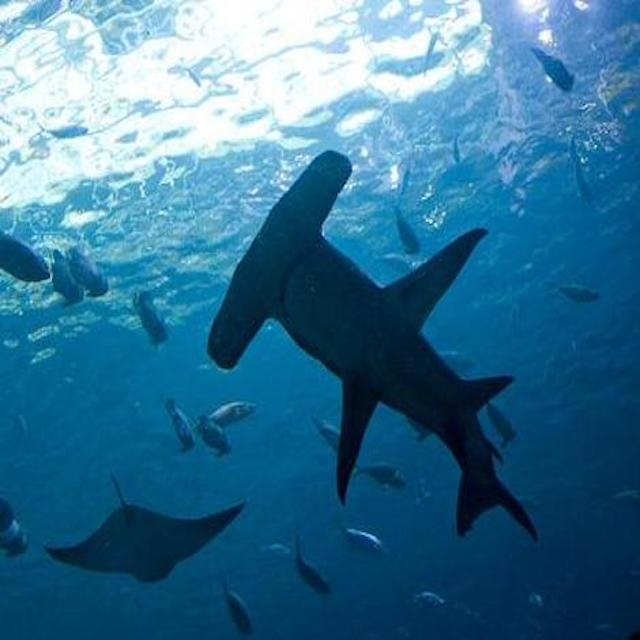hammerhead: (203, 141, 470, 390)
